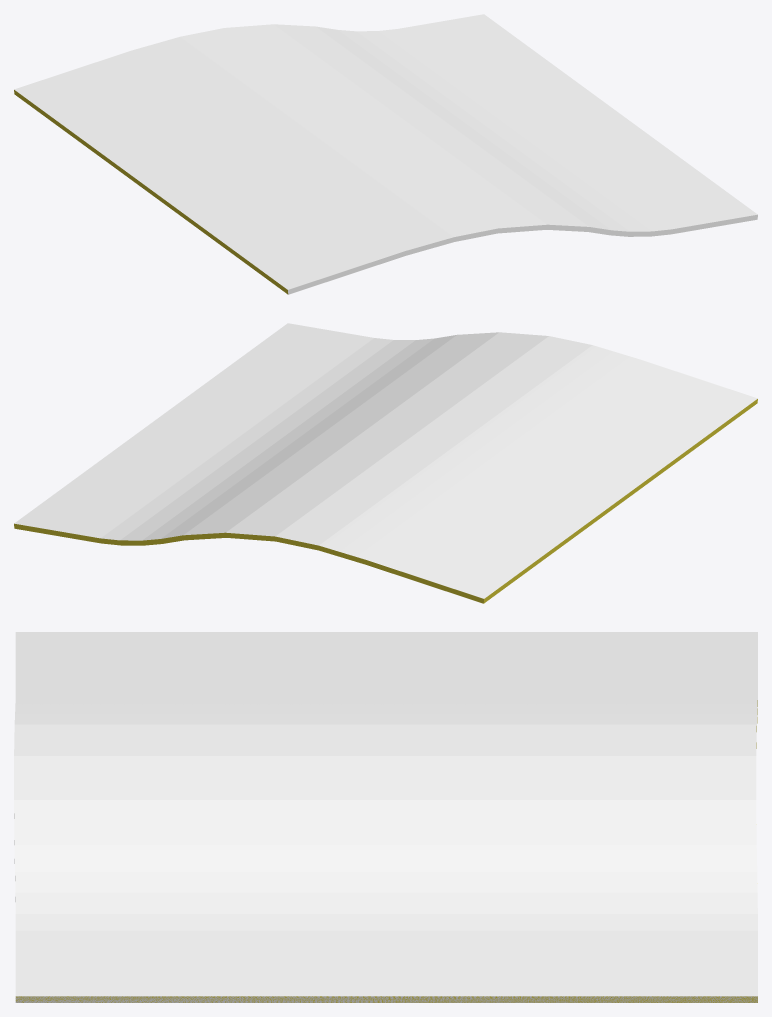
The model's file is kain.fbx.
3 renders of one model, top to bottom at view 1: azimuth 30°, elevation 25°; view 2: azimuth 150°, elevation 25°; view 3: azimuth 270°, elevation 25°, orthographic. The views are drawn at different scales.
Visible parts, largest first — view 1: Highlight_Renderer, kain; view 2: Highlight_Renderer, kain; view 3: Highlight_Renderer, kain.
Part boxes in pixels (x1,y1,x2,y2): Highlight_Renderer: (14, 14, 757, 294); kain: (14, 90, 288, 294); Highlight_Renderer: (14, 323, 757, 598); kain: (14, 399, 757, 603); Highlight_Renderer: (14, 632, 757, 1002); kain: (15, 700, 757, 1002).
Size of the model in its own units: 29.66 by 3.43 by 30.
